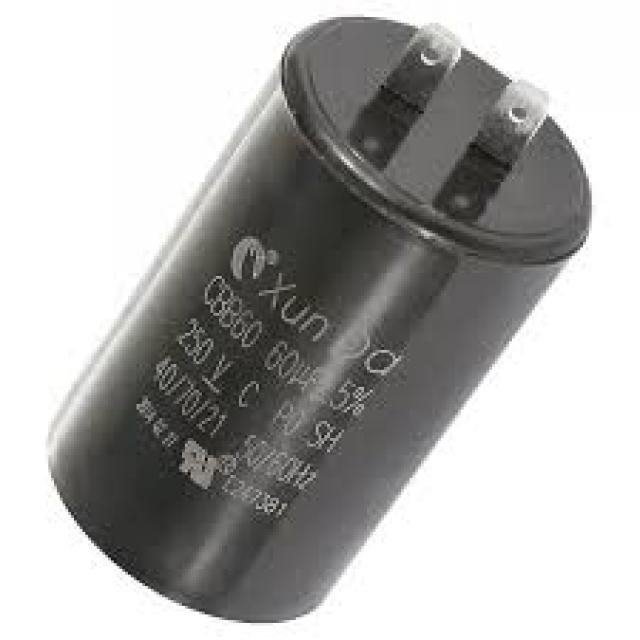Capacitor: (46, 17, 586, 626)
